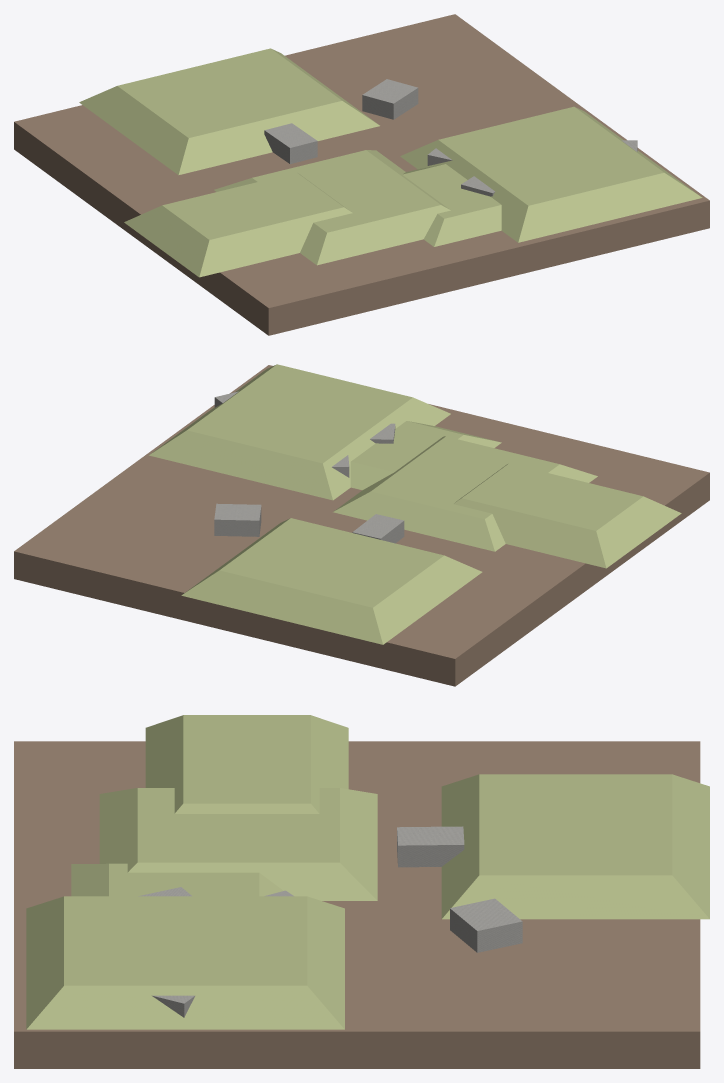
The model's file is andean-terraces-and-stone-village-mountain-ground-modu-d88495d5__38226.glb.
3 renders of one model, top to bottom at view 1: azimuth 30°, elevation 25°; view 2: azimuth 150°, elevation 25°; view 3: azimuth 270°, elevation 25°, orthographic. The views are drawn at different scales.
Parts seen in each view (by area): view 1: mountain-ground-module-grass, mountain-ground-module-earth, mountain-ground-module-stone; view 2: mountain-ground-module-grass, mountain-ground-module-earth, mountain-ground-module-stone; view 3: mountain-ground-module-grass, mountain-ground-module-earth, mountain-ground-module-stone.
Boxes of the visible parts, box(x1,y1,x2,y2) form: mountain-ground-module-grass: box(79, 48, 702, 277); mountain-ground-module-earth: box(14, 14, 709, 335); mountain-ground-module-stone: box(264, 79, 637, 196); mountain-ground-module-grass: box(149, 364, 681, 644); mountain-ground-module-earth: box(14, 365, 709, 686); mountain-ground-module-stone: box(214, 391, 404, 543); mountain-ground-module-grass: box(26, 715, 709, 1029); mountain-ground-module-earth: box(14, 741, 700, 1068); mountain-ground-module-stone: box(138, 826, 522, 1017).
Bounding box in the file's own units: 4.19 × 0.4243 × 4.06.
3 materials, 1 textured.
